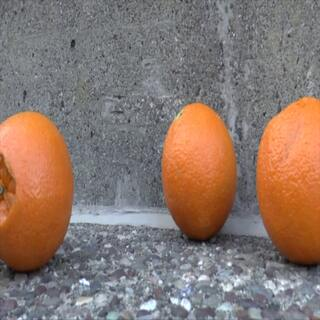orange: (1, 102, 80, 268), (162, 103, 242, 234), (262, 99, 320, 249)
